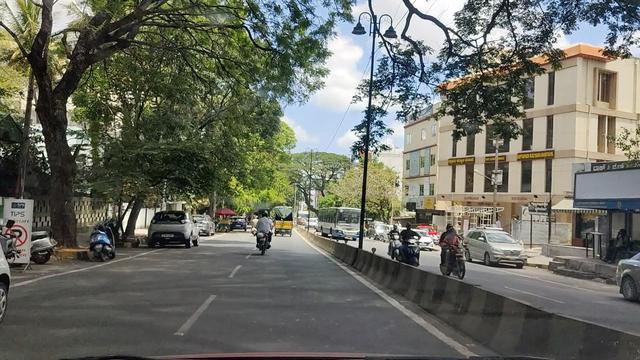LMV: (147, 212, 208, 247), (251, 208, 277, 258)
